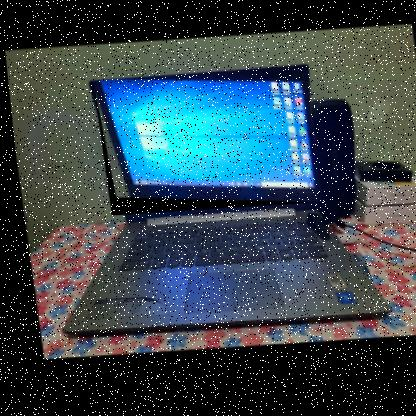Normal: (90, 68, 319, 218)
